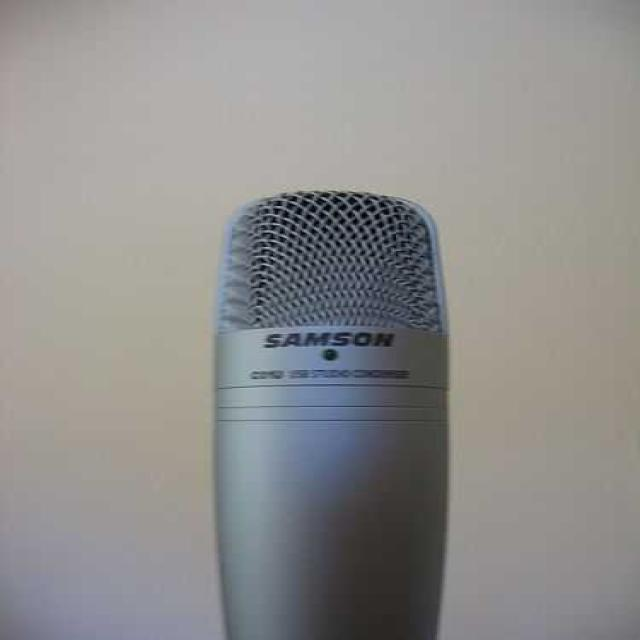microphone: (216, 188, 477, 636)
